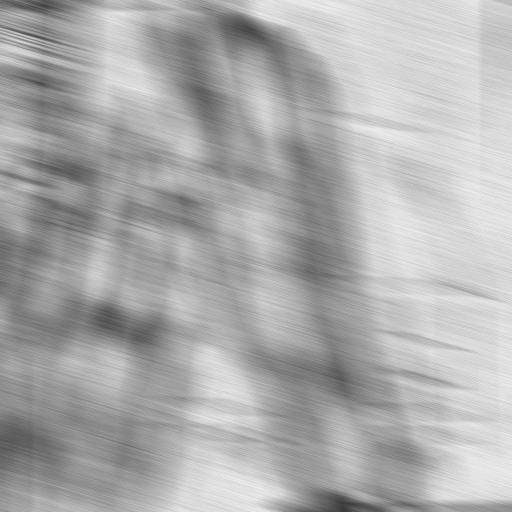house: (100, 1, 508, 469)
